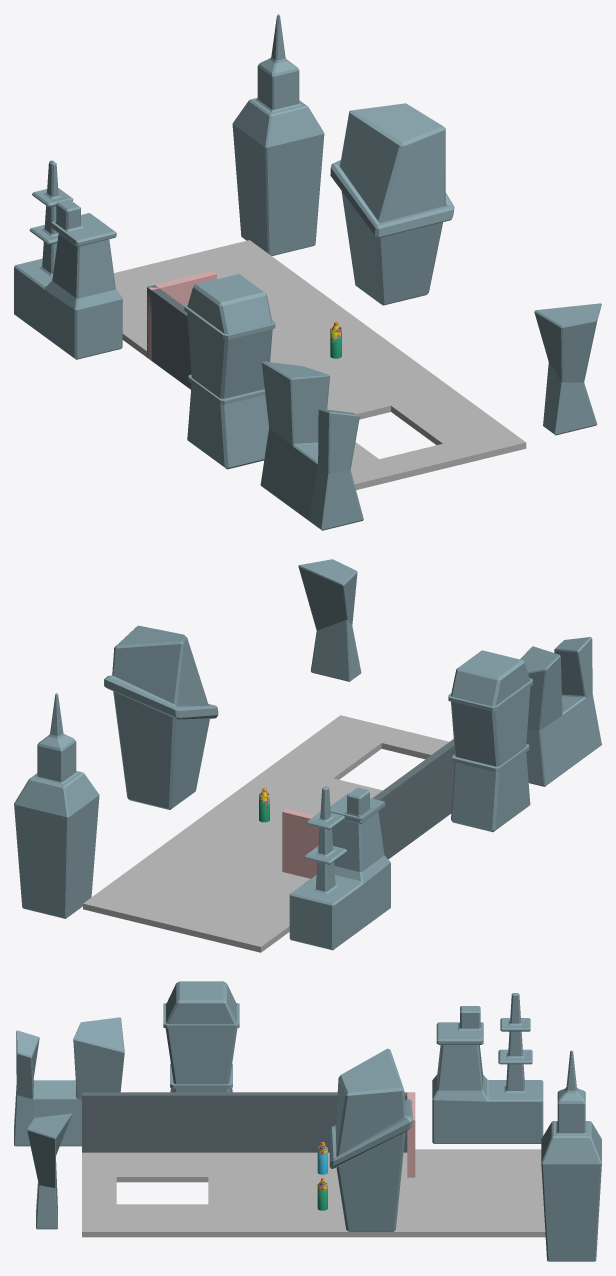
Rendered from Graffiti_Run_Environment.fbx.
3 renders of one model, top to bottom at view 1: azimuth 30°, elevation 25°; view 2: azimuth 150°, elevation 25°; view 3: azimuth 270°, elevation 25°, orthographic. The views are drawn at different scales.
Parts seen in each view (by area): view 1: Building_5, Road, Building_2, Building_6, Building_3, Building_1, Obstacles_Road_Space, Building_4, Wall, Obstacles_Wall; view 2: Road, Building_5, Building_2, Building_6, Building_3, Building_1, Obstacles_Road_Space, Building_4, Wall, Obstacles_Wall; view 3: Road, Wall, Obstacles_Road_Space, Building_3, Building_5, Building_6, Building_1, Building_2, Building_4, Obstacles_Wall.
Part boxes in pixels (left/top/right/bottom): Building_5: left=330, top=103, right=454, bottom=305; Road: left=114, top=240, right=434, bottom=401; Building_2: left=184, top=274, right=275, bottom=469; Building_6: left=232, top=14, right=324, bottom=255; Building_3: left=14, top=160, right=122, bottom=359; Building_1: left=260, top=361, right=363, bottom=530; Obstacles_Road_Space: left=327, top=376, right=526, bottom=489; Building_4: left=534, top=303, right=601, bottom=435; Wall: left=147, top=285, right=191, bottom=389; Obstacles_Wall: left=147, top=271, right=216, bottom=360; Road: left=83, top=777, right=341, bottom=952; Building_5: left=104, top=625, right=218, bottom=809; Building_2: left=448, top=650, right=532, bottom=832; Building_6: left=14, top=693, right=99, bottom=918; Building_3: left=289, top=786, right=390, bottom=950; Building_1: left=520, top=637, right=601, bottom=786; Obstacles_Road_Space: left=256, top=715, right=449, bottom=798; Building_4: left=298, top=559, right=361, bottom=681; Wall: left=372, top=739, right=454, bottom=859; Obstacles_Wall: left=282, top=809, right=319, bottom=878; Road: left=243, top=1149, right=545, bottom=1237; Wall: left=82, top=1092, right=410, bottom=1152; Obstacles_Road_Space: left=82, top=1152, right=242, bottom=1237; Building_3: left=432, top=993, right=543, bottom=1143; Building_5: left=329, top=1048, right=412, bottom=1231; Building_6: left=541, top=1050, right=601, bottom=1261; Building_1: left=14, top=1017, right=124, bottom=1146; Building_2: left=163, top=981, right=239, bottom=1092; Building_4: left=27, top=1113, right=71, bottom=1229; Obstacles_Wall: left=407, top=1092, right=415, bottom=1177.
Size of the model in its own units: 564 by 377 by 996.
6 materials, 2 textured.
